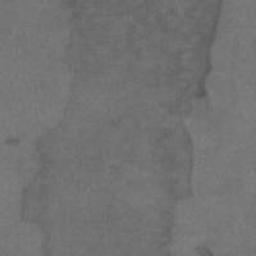Water spot: (17, 0, 224, 256), (193, 243, 214, 256), (3, 137, 20, 146)
